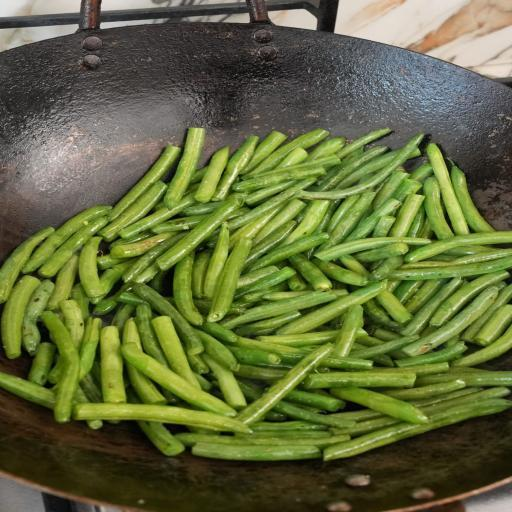buncis_rebus: (3, 120, 512, 472)
